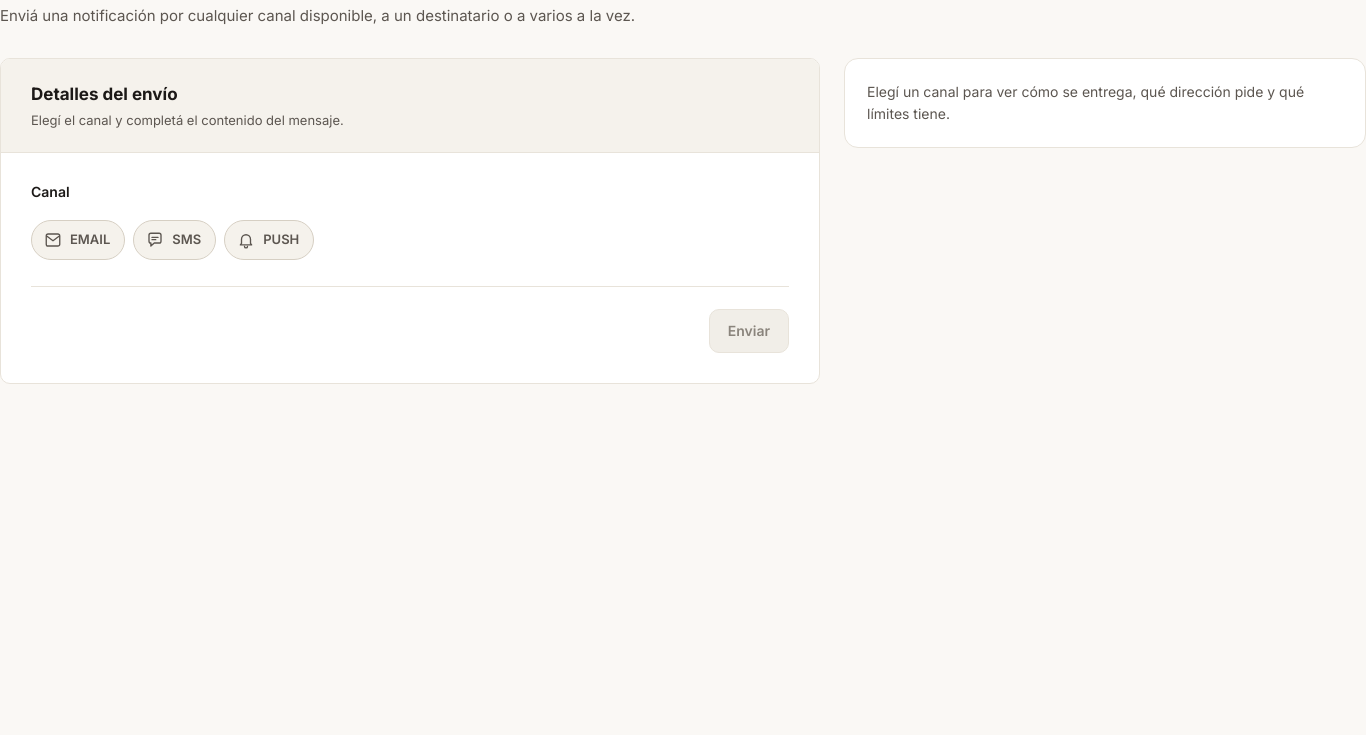
it: NuevaNotificacion (validaciones) › en SMS acepta el número con espacios y guiones y lo envía en formato E.164
The image size is (1366, 735).
Click the radio button labelled "SMS". click: click(175, 240)
box: [133, 220, 216, 260]
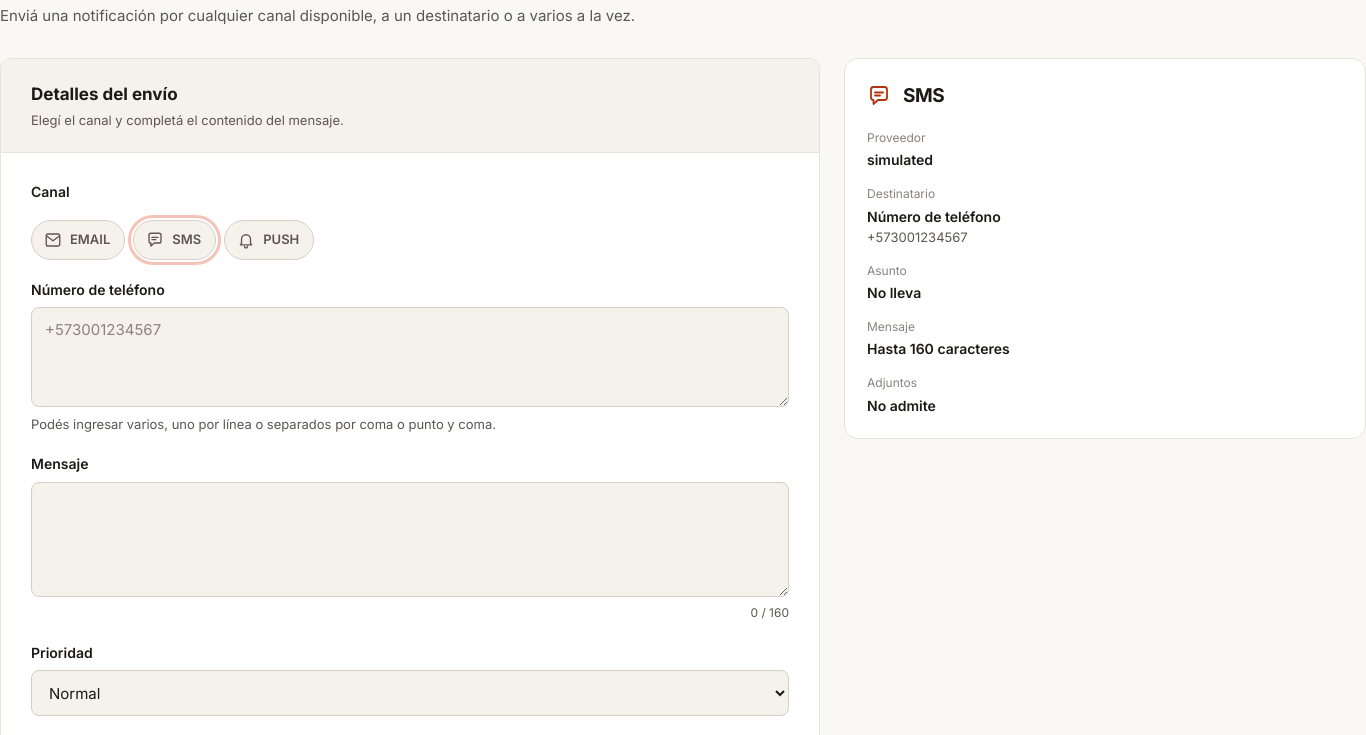
Type "+57 (300) 123-4567" into the text box labelled "Número de teléfono". click: (410, 357)
box: [31, 307, 789, 407]
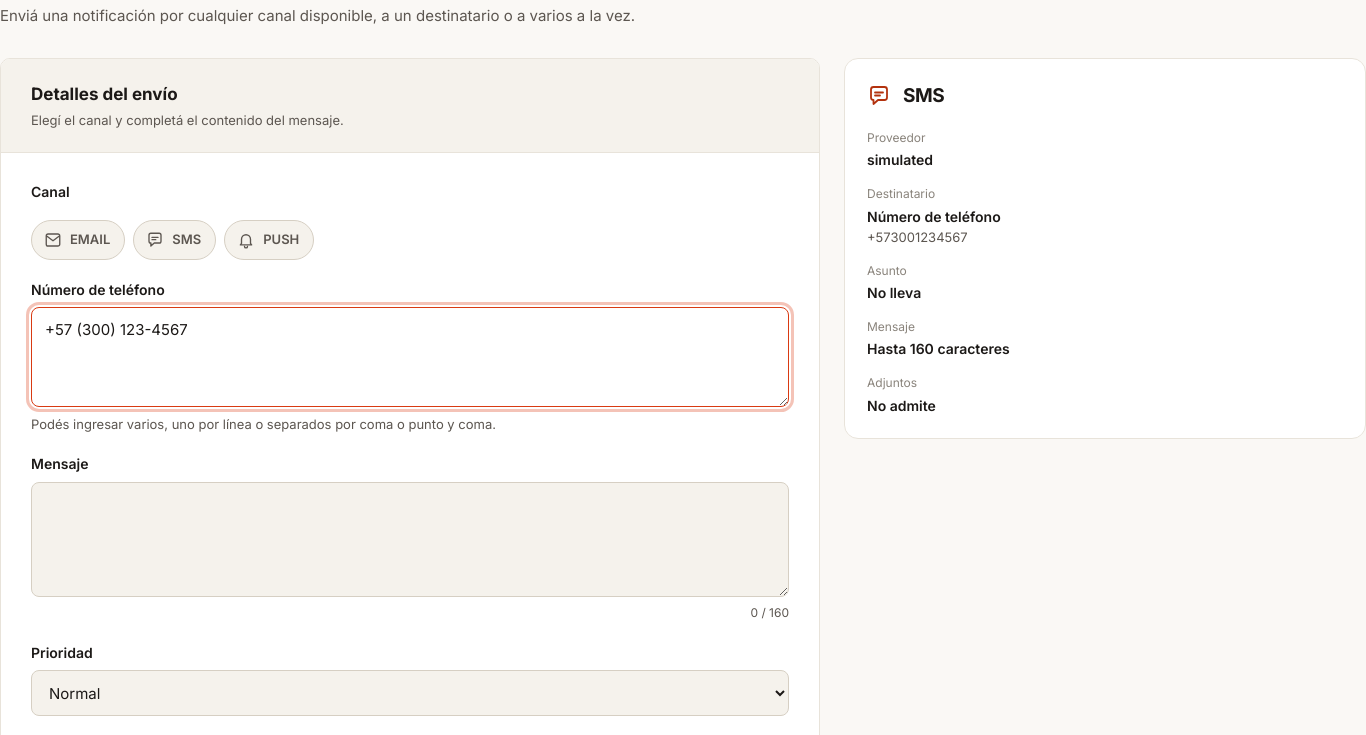
Type "Hola" into the text box labelled "Mensaje". click: (410, 540)
box: [31, 482, 789, 597]
(page scrolled)
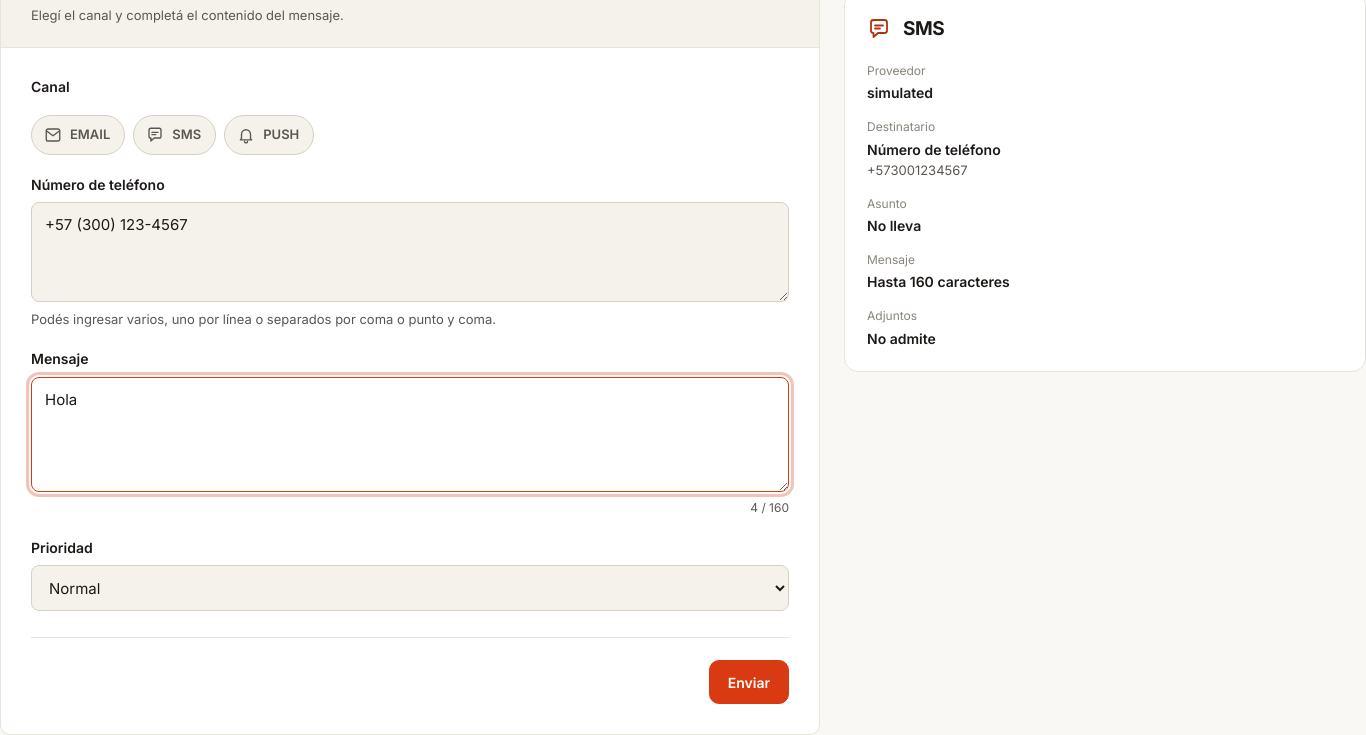
Click the button "Enviar". click: click(749, 682)
box: [709, 660, 789, 704]
(page scrolled)
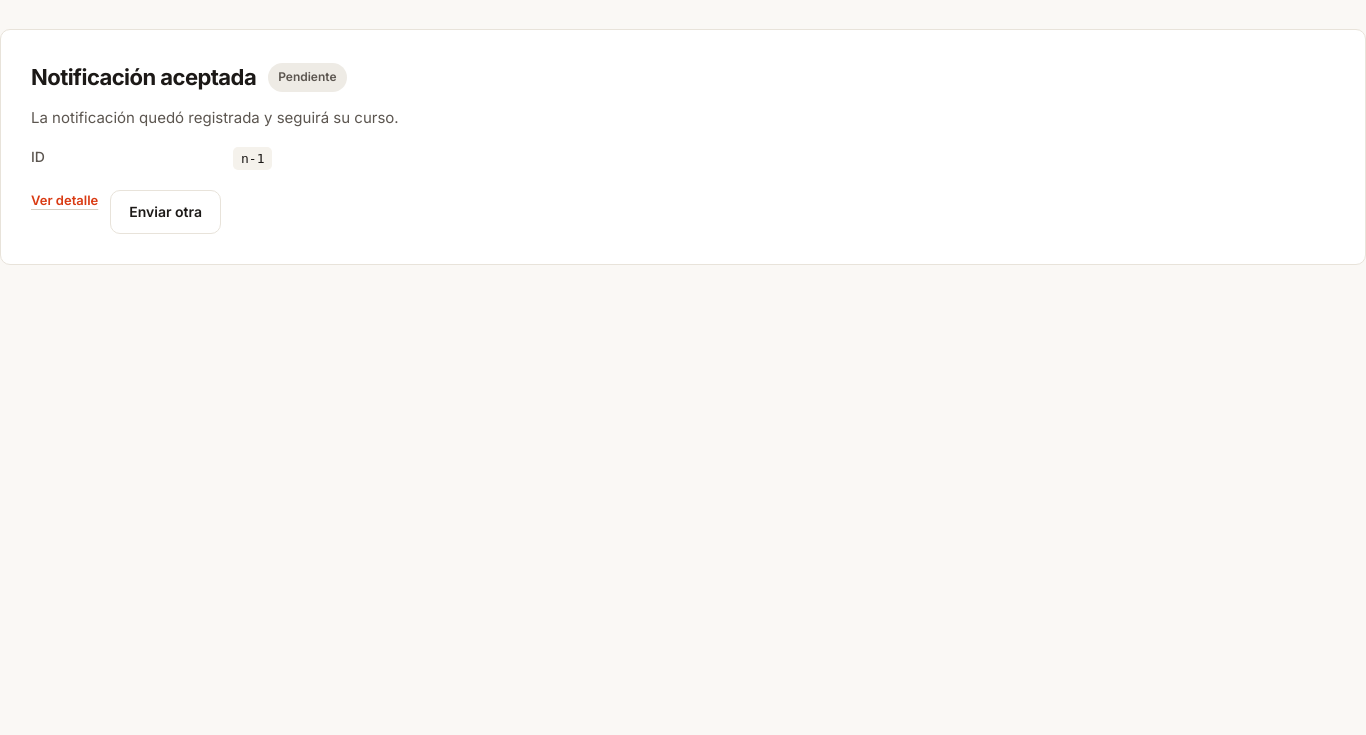
Check: the heading "Notificación aceptada" is shown, box [31, 60, 256, 94]
